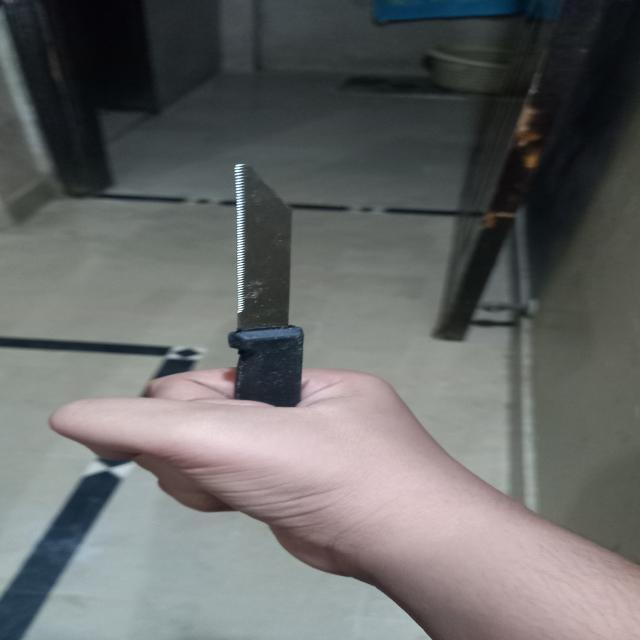Knife: (201, 156, 314, 432)
